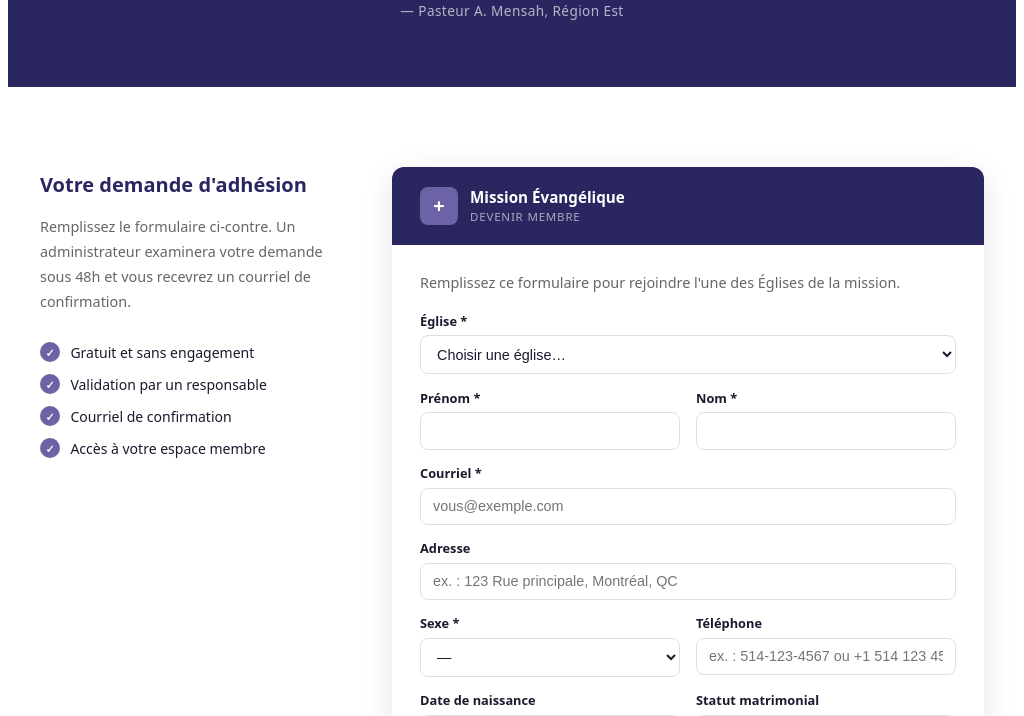
Test: MembershipPage — validation des champs optionnels › refuse un téléphone trop court
(page scrolled)
Select "Église centrale — Centre" in the 1st dropdown at (688, 355), box [420,335,956,374]
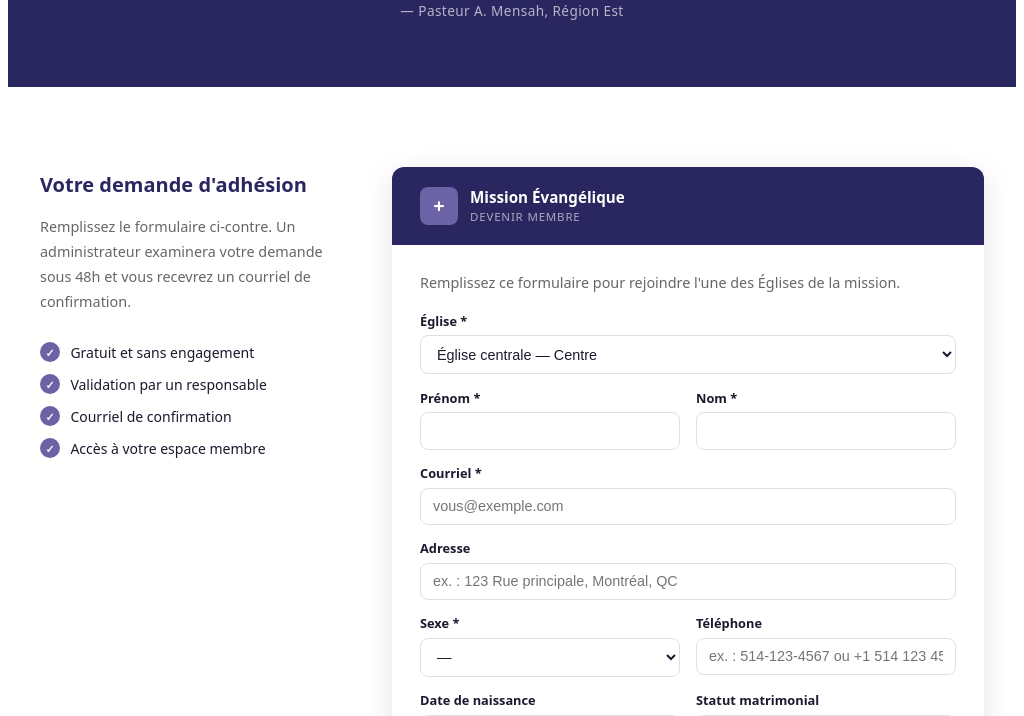
Type "Marie" into the field below "Prénom *" at (550, 431), box [420,412,680,450]
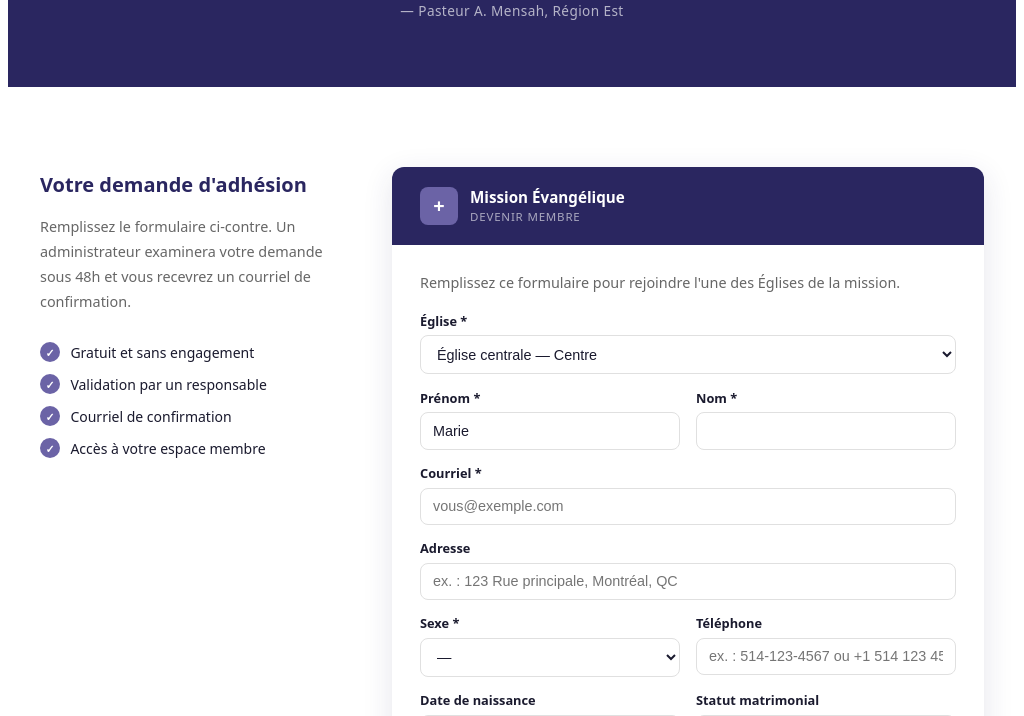
Type "Dupont" into the 2nd field at (826, 431), box [696,412,956,450]
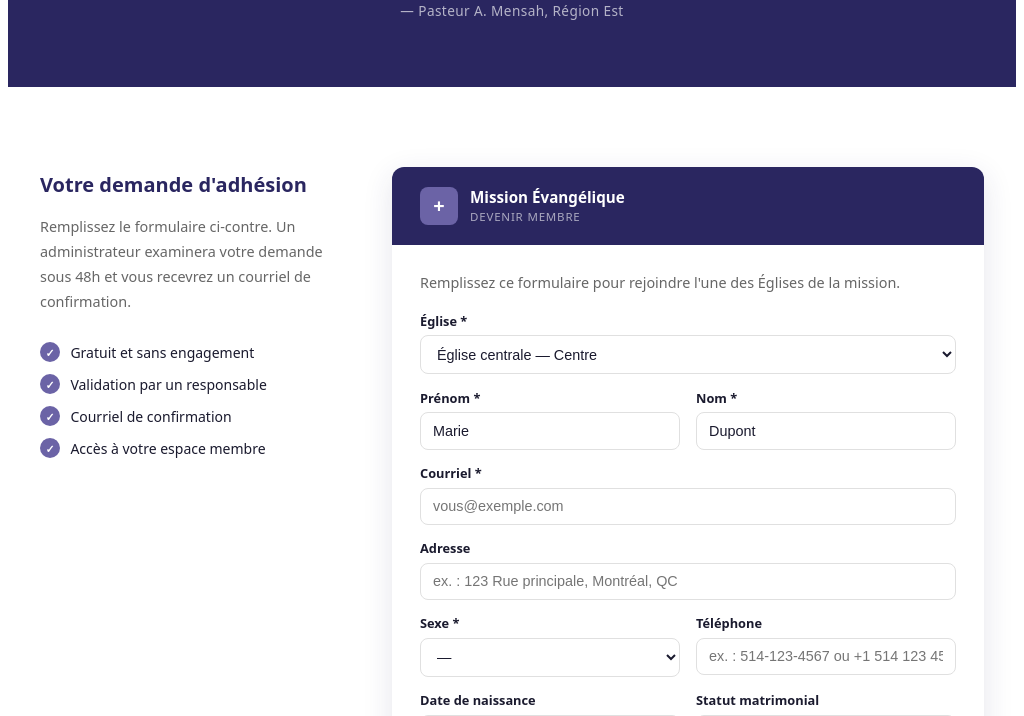
Type "marie@exemple.com" into the field with placeholder "vous@exemple.com" at (688, 506), box [420,488,956,525]
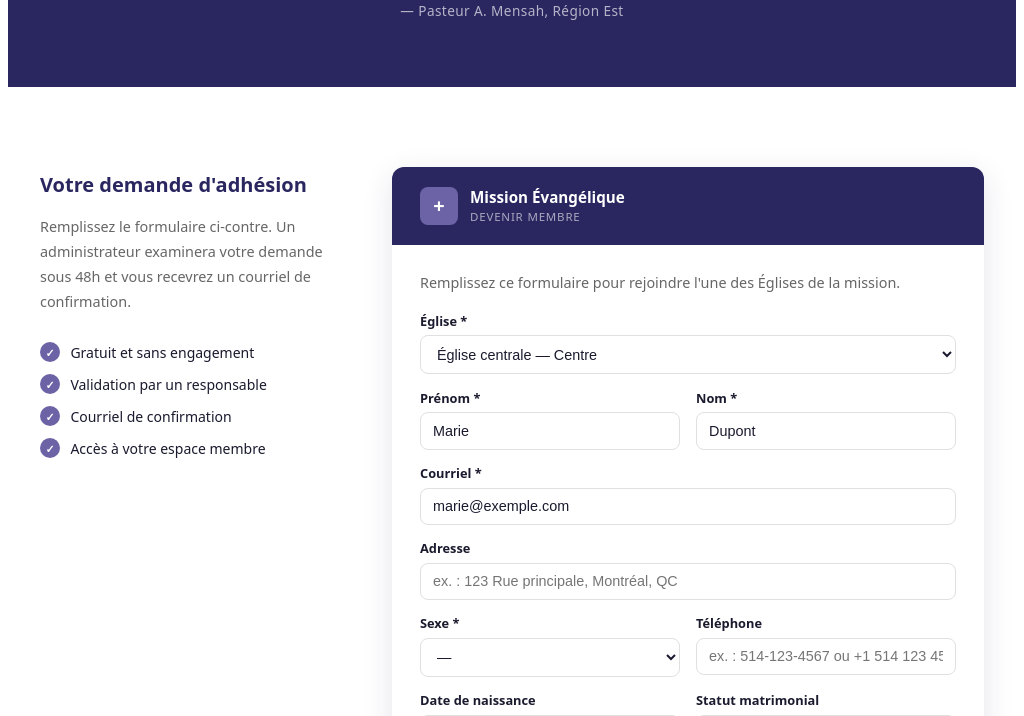
Type "123" into the field with placeholder "ex. : 514-123-4567 ou +1 514 123 4567" at (826, 656), box [696,638,956,675]
(page scrolled)
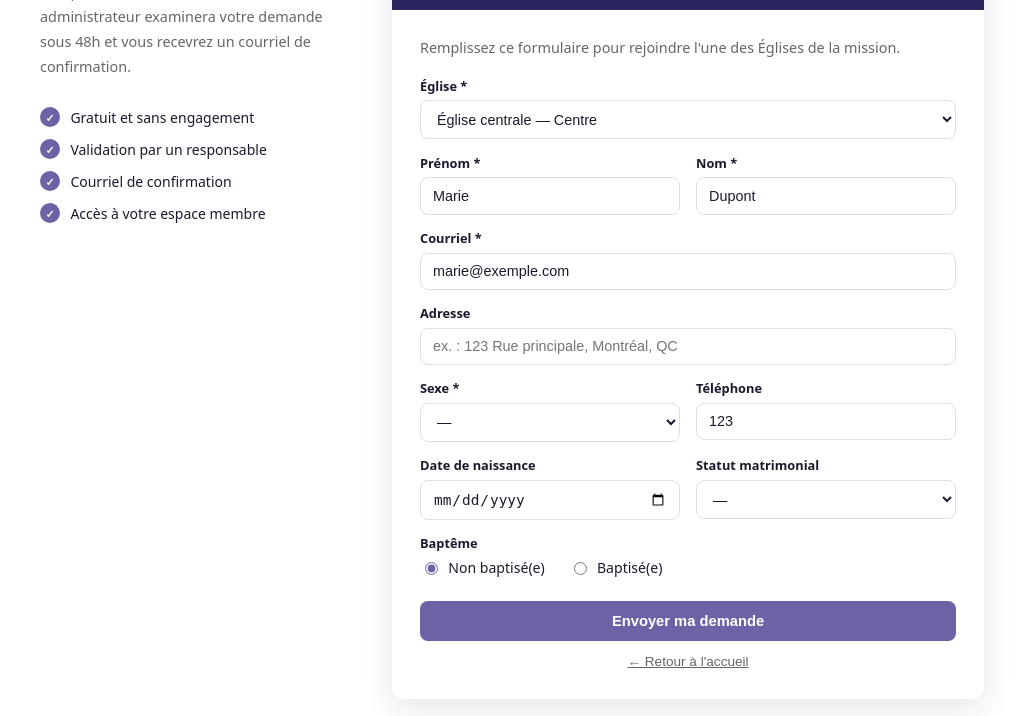
Submit the form, box [392,10,984,699]
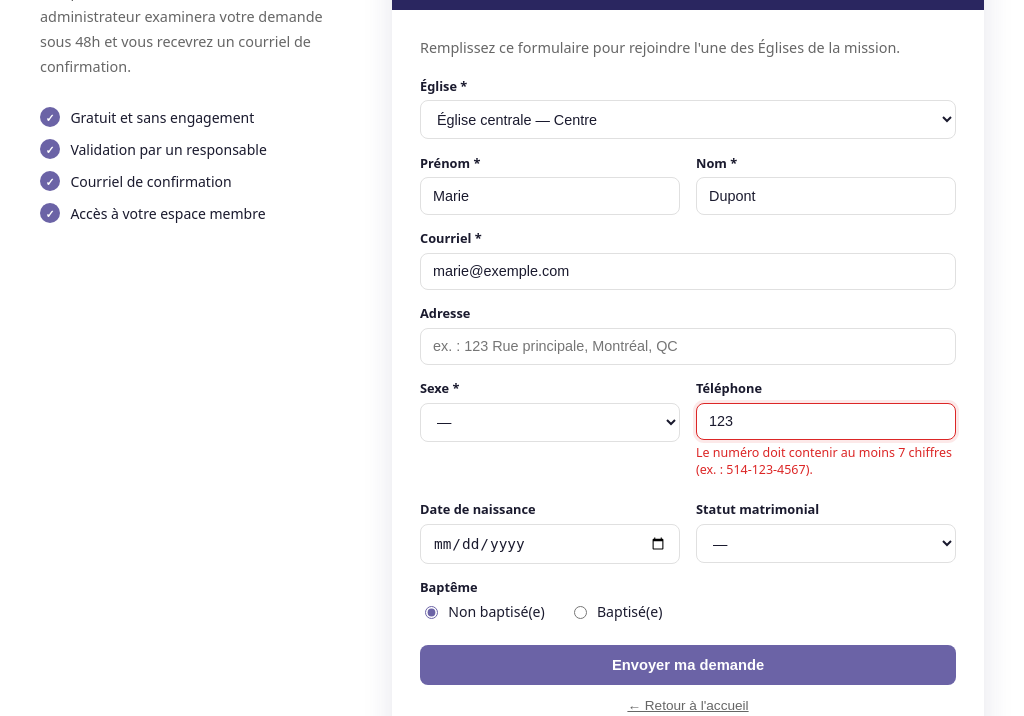
Expected: the message "Le numéro doit contenir au moins 7 chiffres (ex. : 514-123-4567)." is shown, [696,444,956,478]
